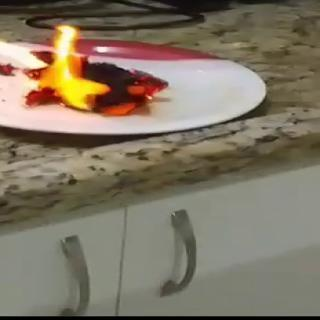fire: (20, 18, 172, 119)
